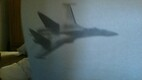maybay_muctieu: (29, 3, 119, 58)
